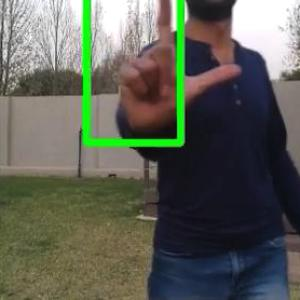land_hand: (113, 0, 245, 131)
